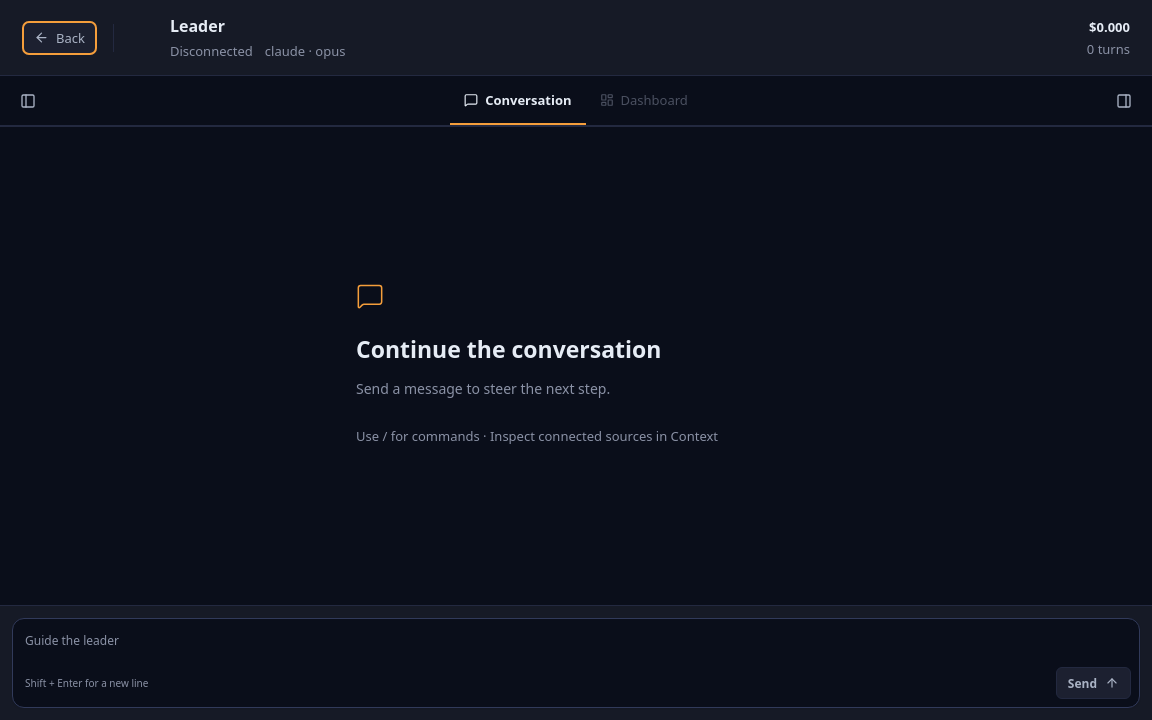
Test case: Fullscreen leader capabilities › mounts the live change viewer only when the Changes tab is selected
The width and height of the screenshot is (1152, 720).
Expected: the text "Current workspace edits" is not shown
What coordinates should you click on to do the following:
click the button named "Toggle context panel"
I would click on:
 (1124, 100)
Its box is [1108,84,1140,118].
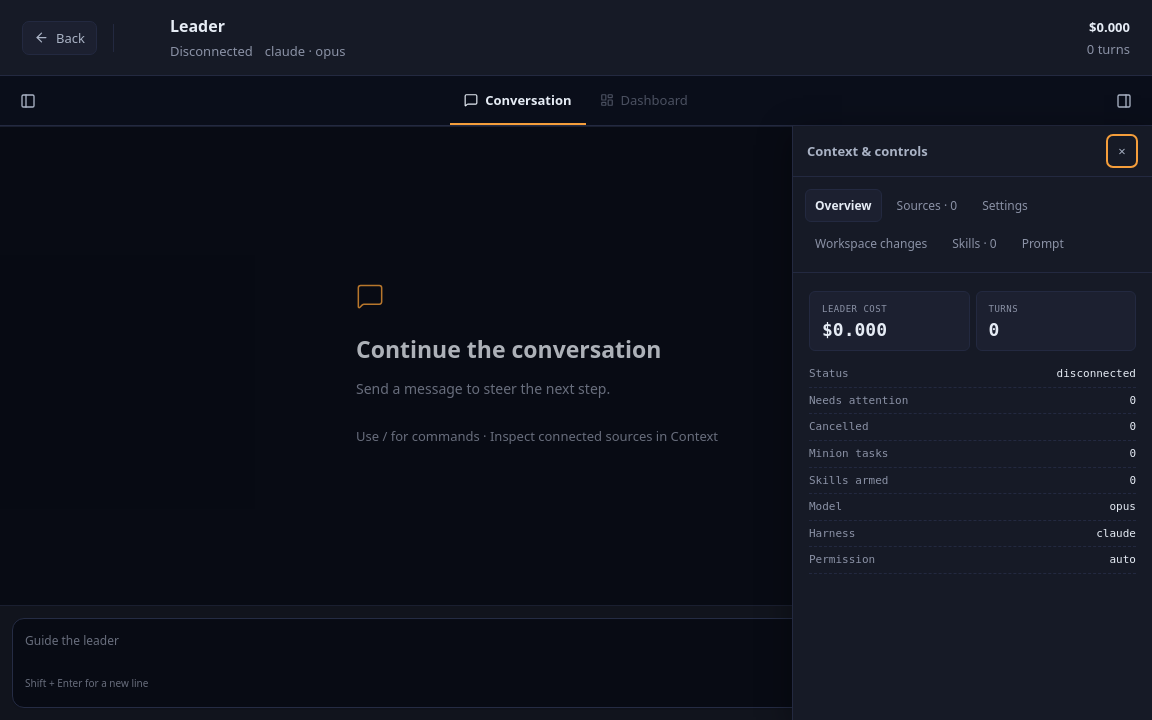
What coordinates should you click on to do the following:
click the tab "Workspace changes"
I would click on:
 (871, 244)
Its box is [805,227,937,260].
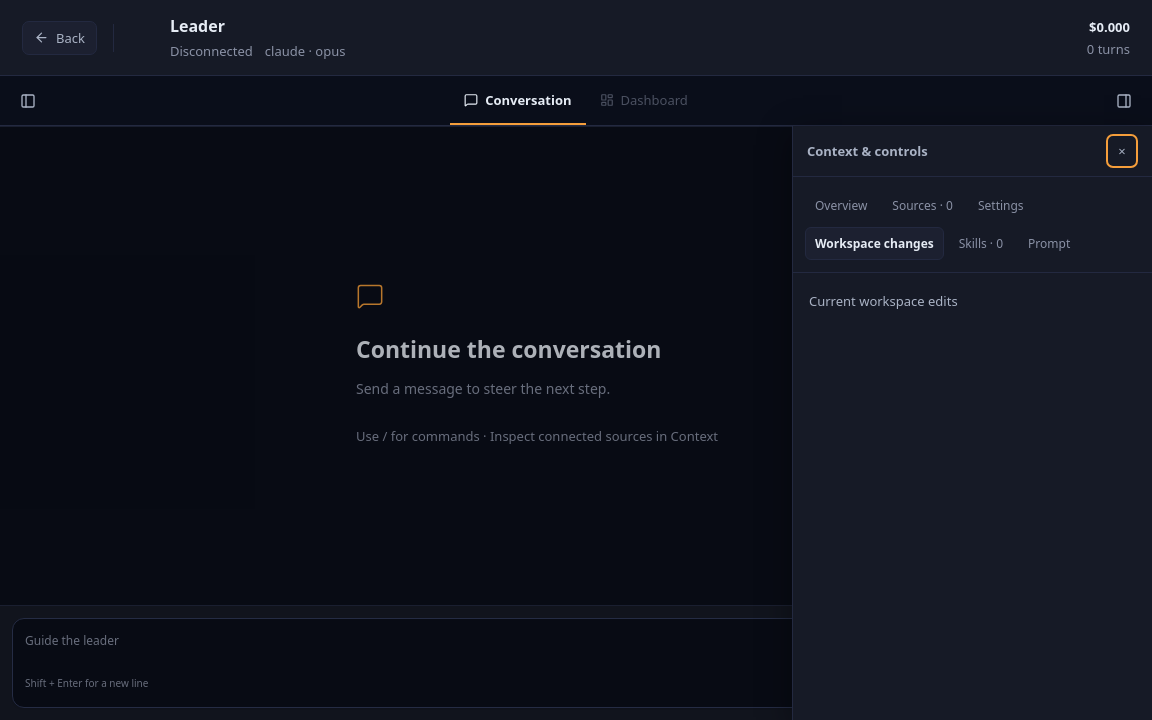
Now the text "Current workspace edits" is shown, box [809,292,958,310]
What coordinates should you click on to do the following:
click the button named "Close context panel"
I would click on:
 (1122, 151)
Its box is [1106,134,1138,168].
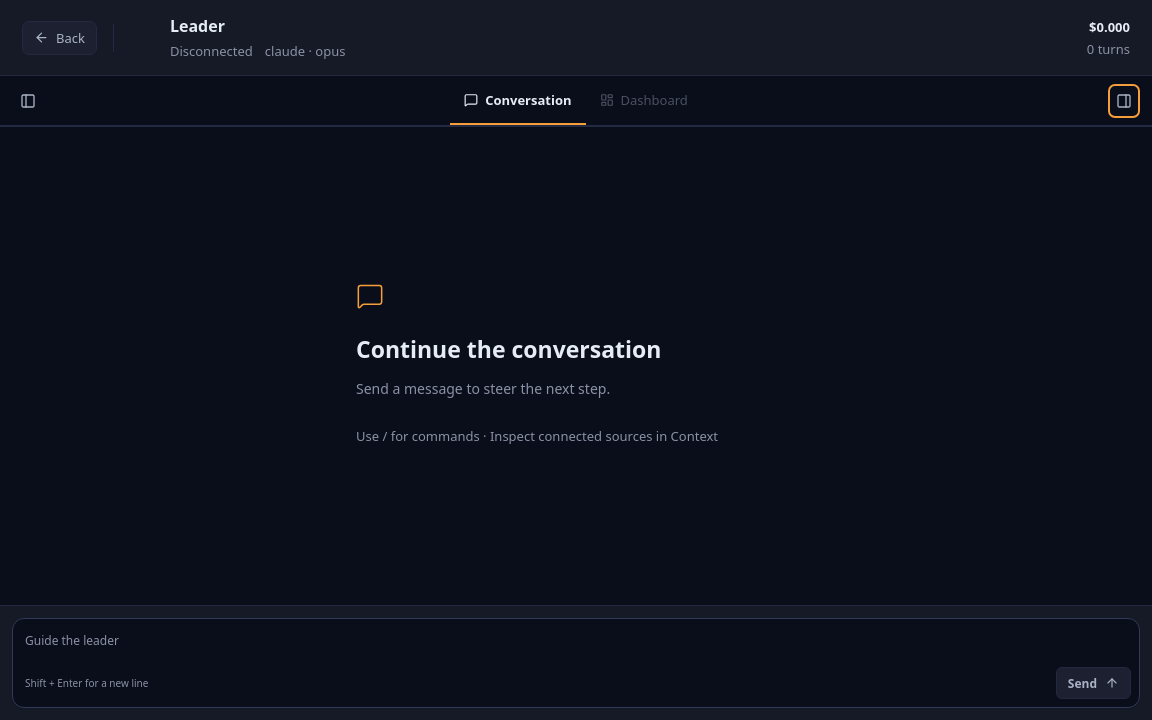
Now the text "Current workspace edits" is gone
What coordinates should you click on to do the following:
click the button named "Toggle context panel"
I would click on:
 (1124, 100)
Its box is [1108,84,1140,118].
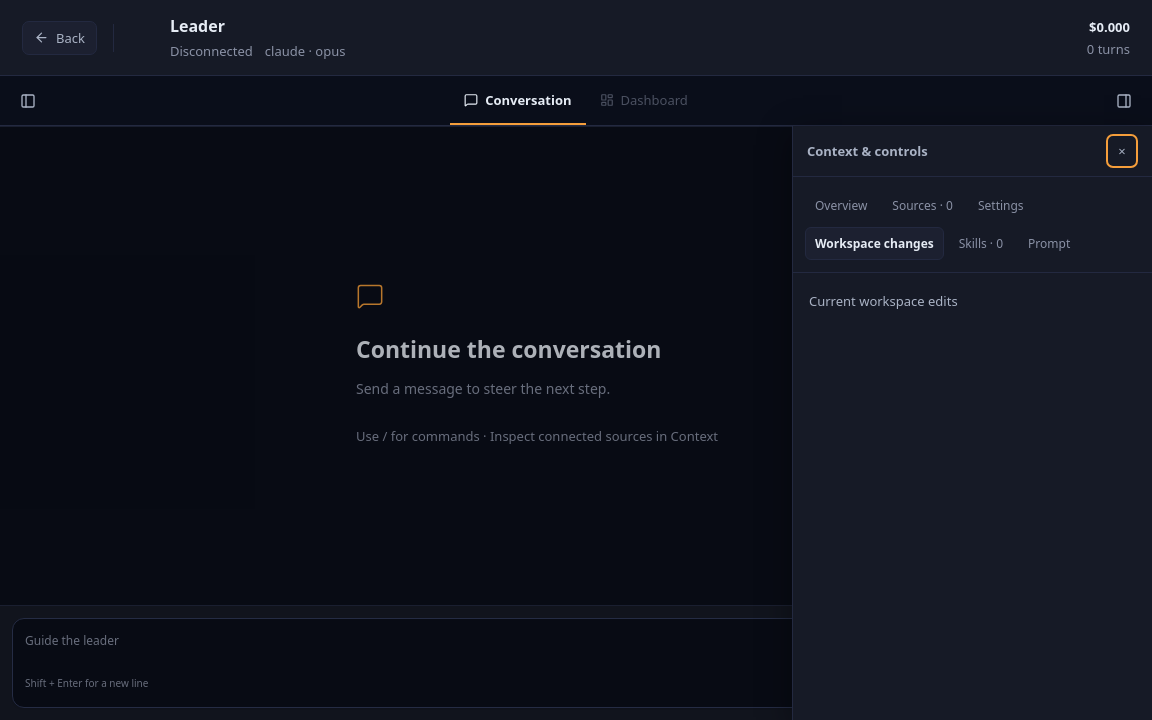
Now the text "Current workspace edits" is shown, box [809,292,958,310]
What coordinates should you click on to do the following:
click the tab "Overview"
I would click on:
 (841, 206)
Its box is [805,189,877,222].
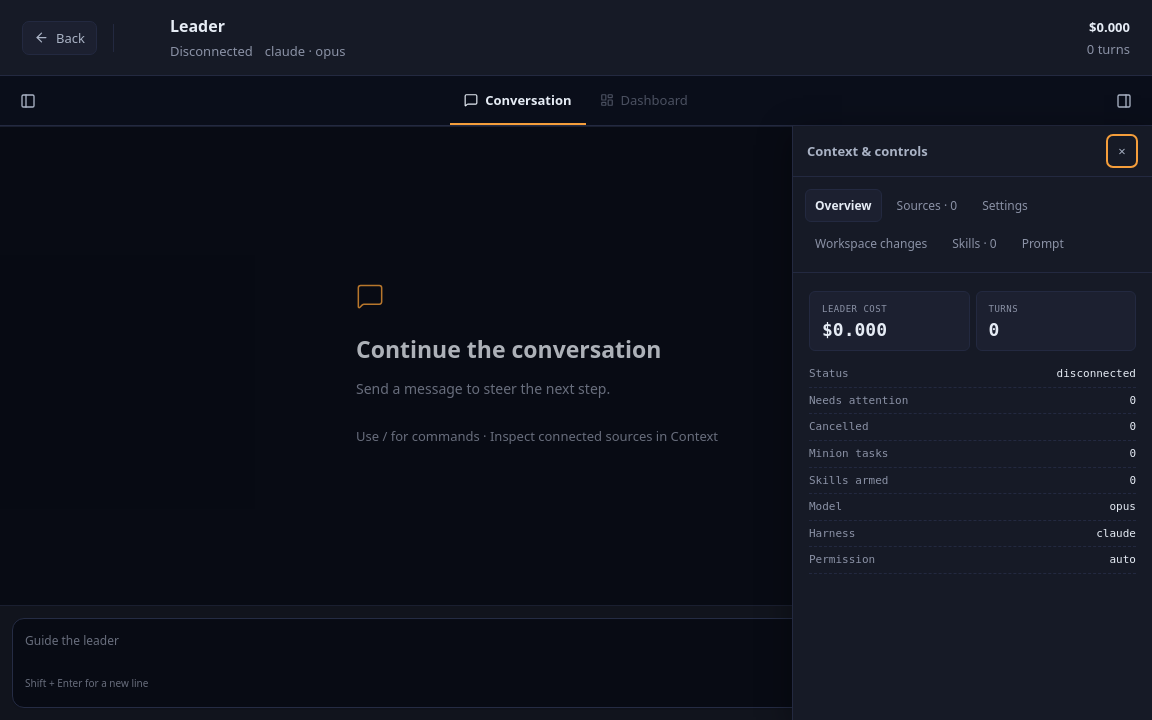
Now the text "Current workspace edits" is gone
